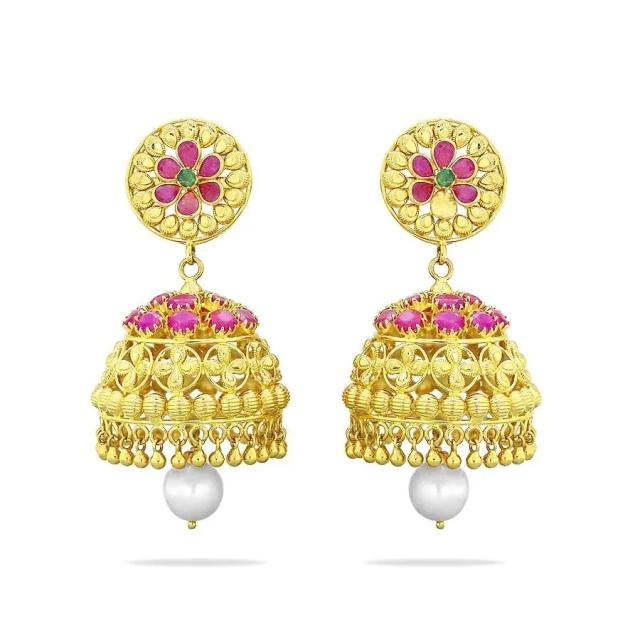missing gem: (434, 191, 454, 215)
